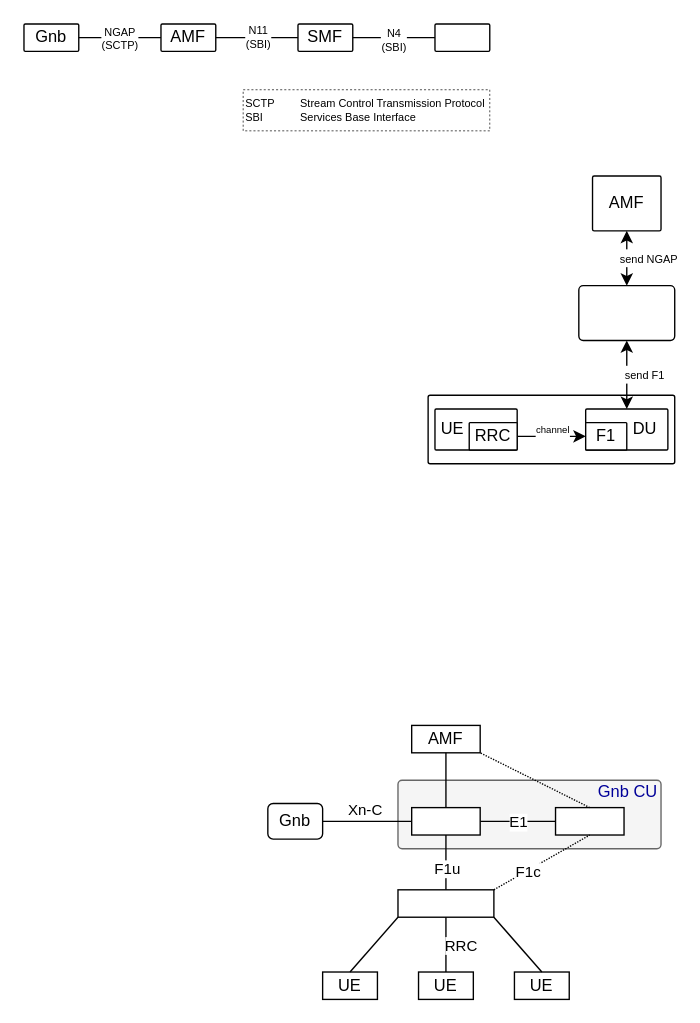
This 700x1023 diagram has some shape labels left out. The shapes that lost their labels are listed below. From the top down, each one's centre as x and y in pixels, then its label:
At pixel 462 37: "UPF".
At pixel 626 312: "CU".
At pixel 445 820: "CU-CP".
At pixel 589 820: "CU-UP".
At pixel 445 902: "Gnb DU".
